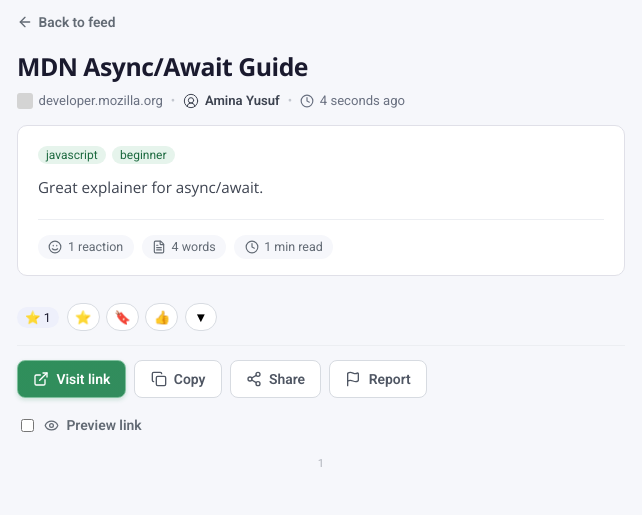
Test: does not record a reaction after a failed submission
Check: the link "MDN Async/Await Guide" is shown, box [17,49,308,83]
Click the button "⭐": (83, 317) [67,303,100,331]
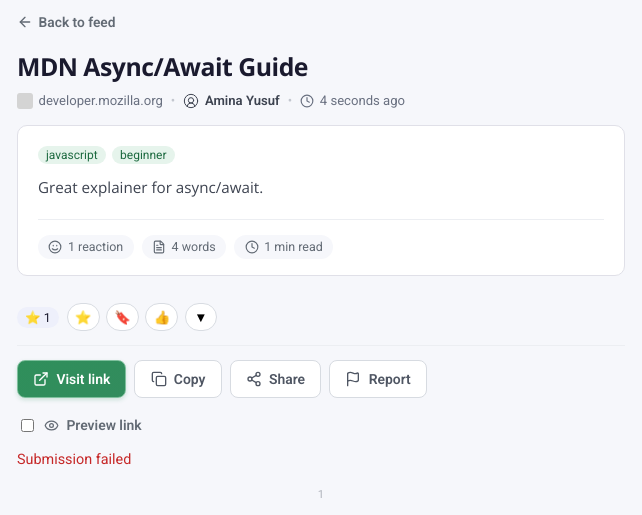
Check: the text "Submission failed" is shown, box [17,451,131,468]
